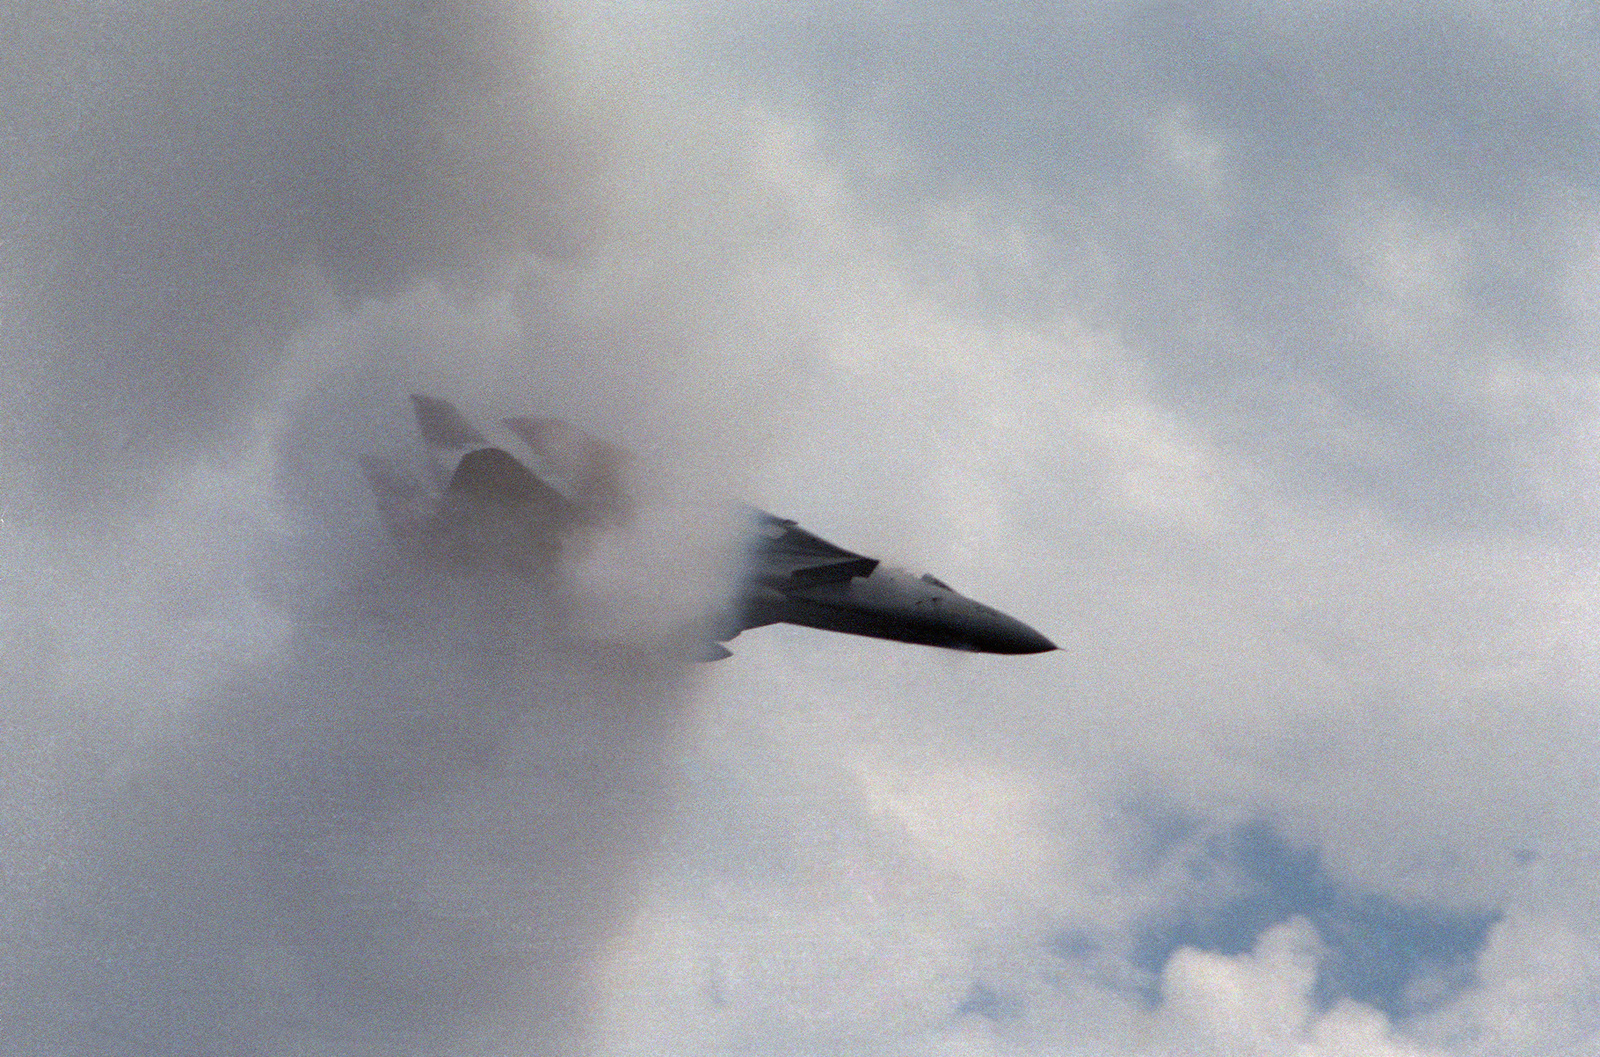F14: (321, 392, 1068, 663)
